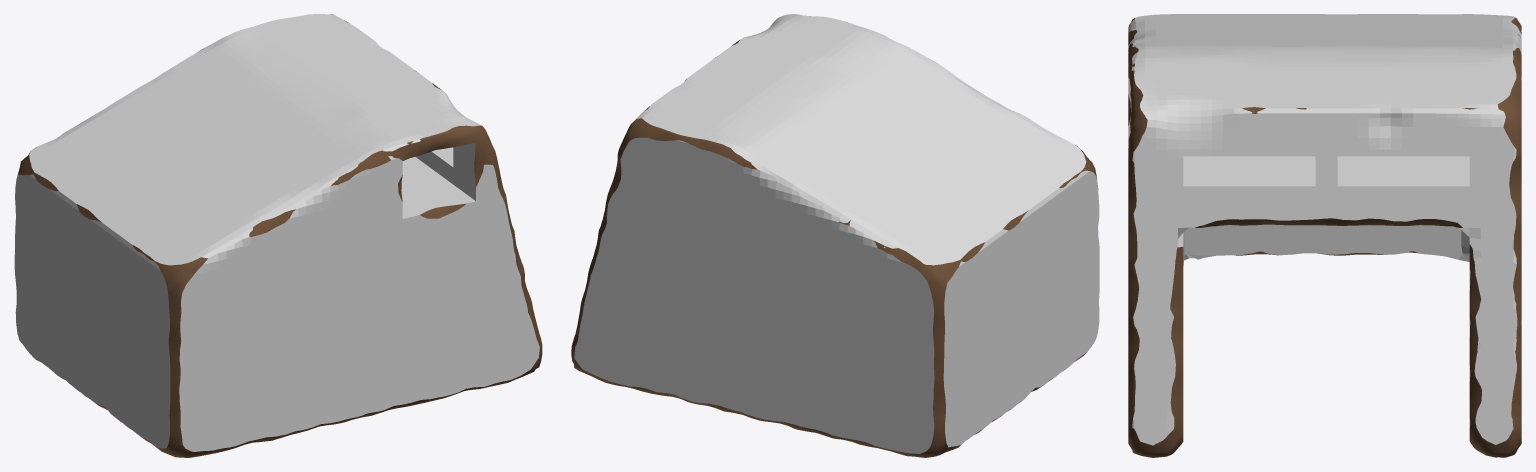
Rendered from Big House.fbx.
3 renders of one model, left to right at view 1: azimuth 30°, elevation 25°; view 2: azimuth 150°, elevation 25°; view 3: azimuth 270°, elevation 25°, orthographic. The views are drawn at different scales.
Visible parts, largest first — view 1: Cube.049_dmg; view 2: Cube.049_dmg; view 3: Cube.049_dmg.
Boxes of the visible parts, box(x1,y1,x2,y2) form: Cube.049_dmg: box(14, 14, 542, 457); Cube.049_dmg: box(571, 14, 1099, 457); Cube.049_dmg: box(1128, 14, 1521, 457).
Bounding box in the file's own units: 1627 × 1110 × 1222.
